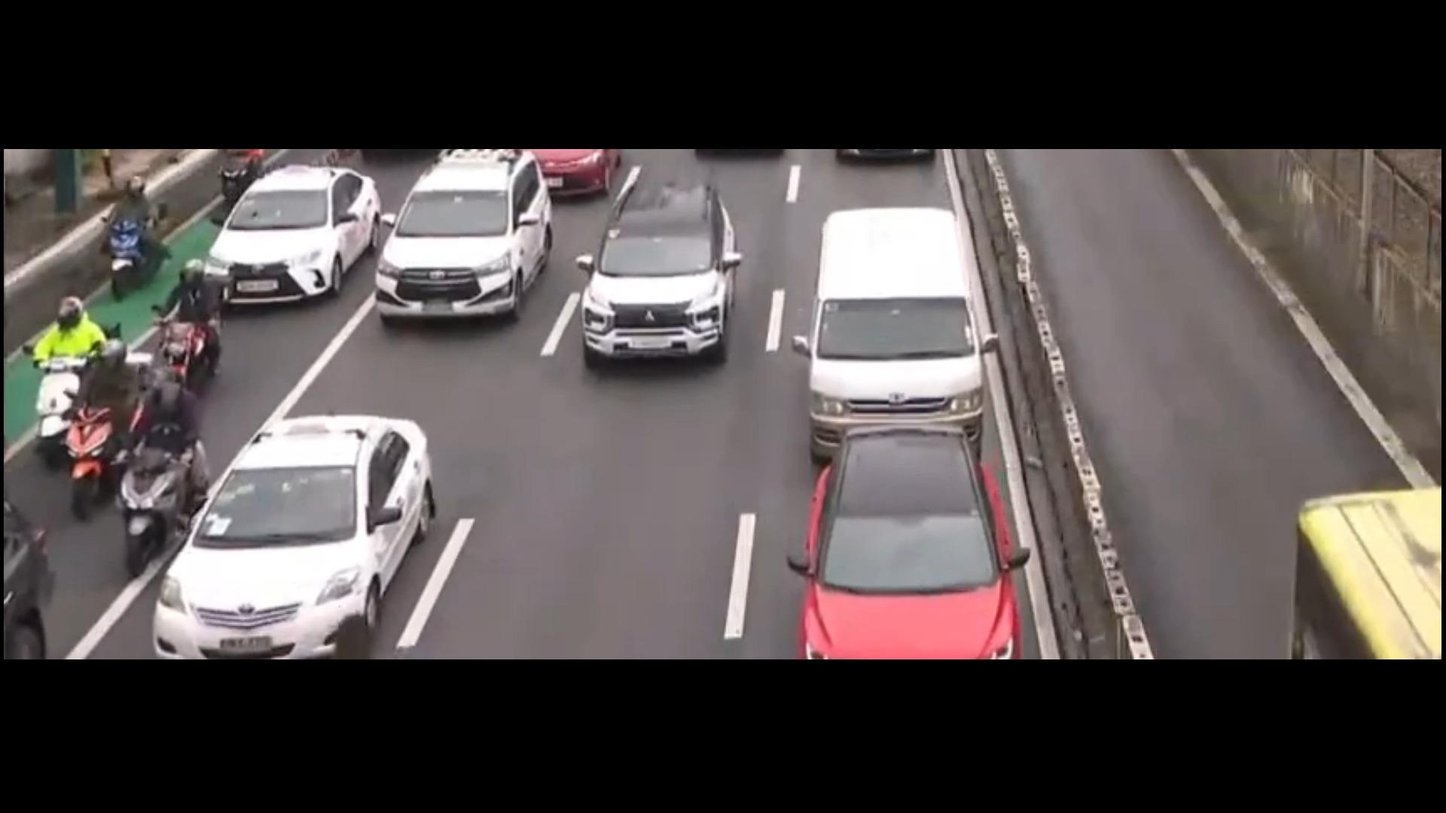Motorcycle: (113, 386, 213, 577), (57, 340, 152, 516), (19, 297, 102, 465), (145, 257, 224, 397), (99, 175, 168, 300)
SUV: (789, 423, 1024, 658), (377, 149, 550, 318), (580, 185, 741, 366)
Sedan: (150, 414, 438, 657), (205, 166, 381, 306)
Van: (804, 205, 984, 456)
